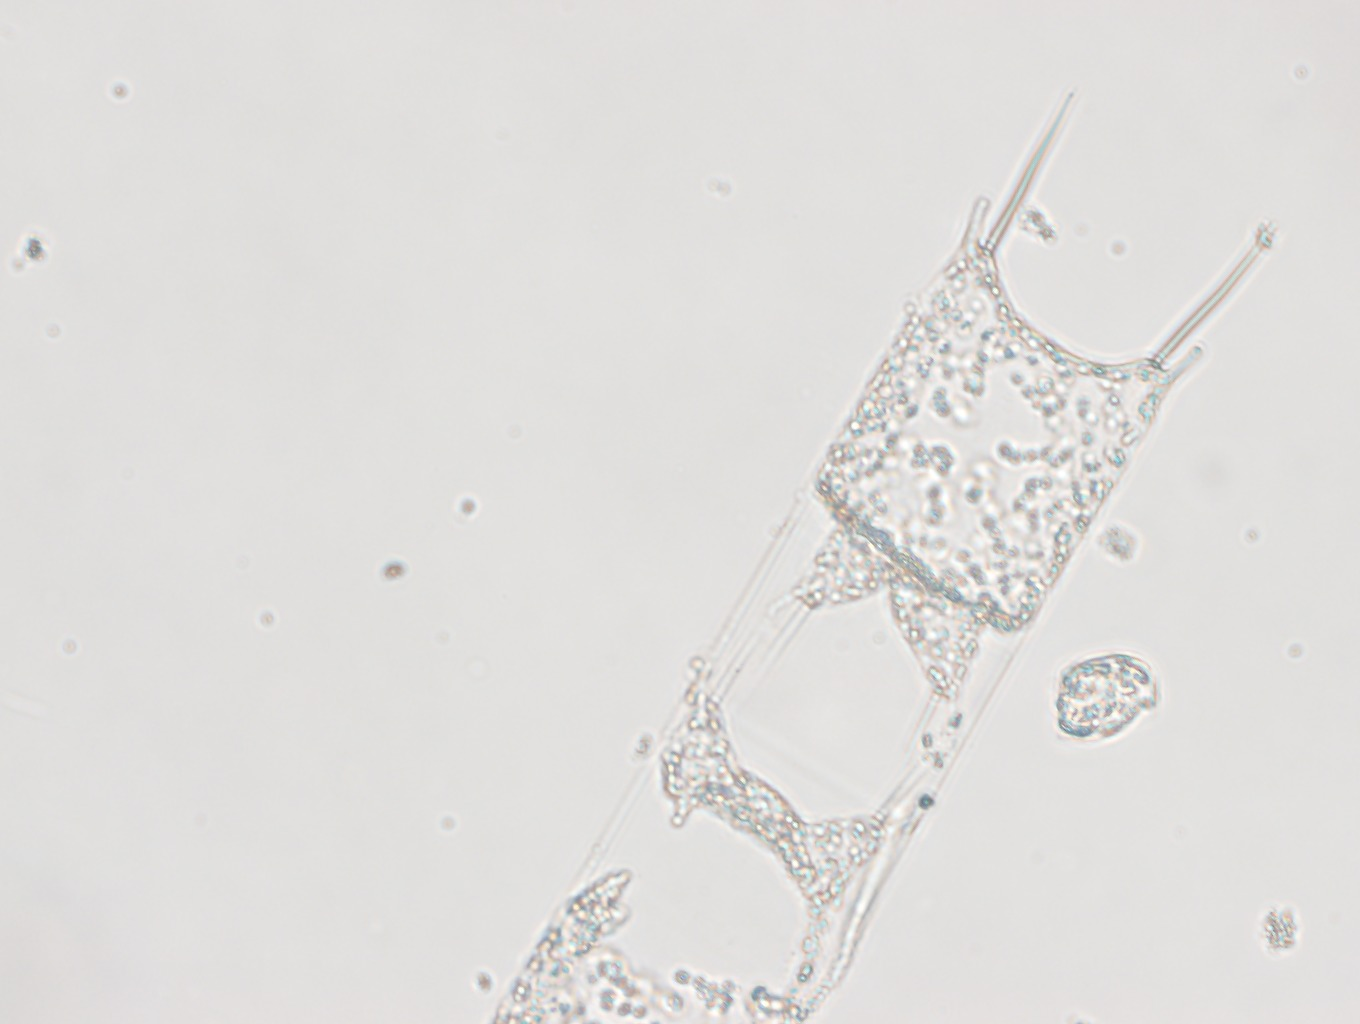biddulphia: (489, 89, 1273, 1024)
